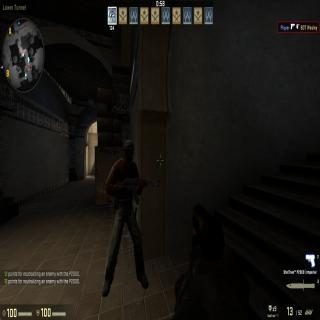T-Body: (104, 138, 148, 294)
T-Head: (119, 139, 138, 165)
